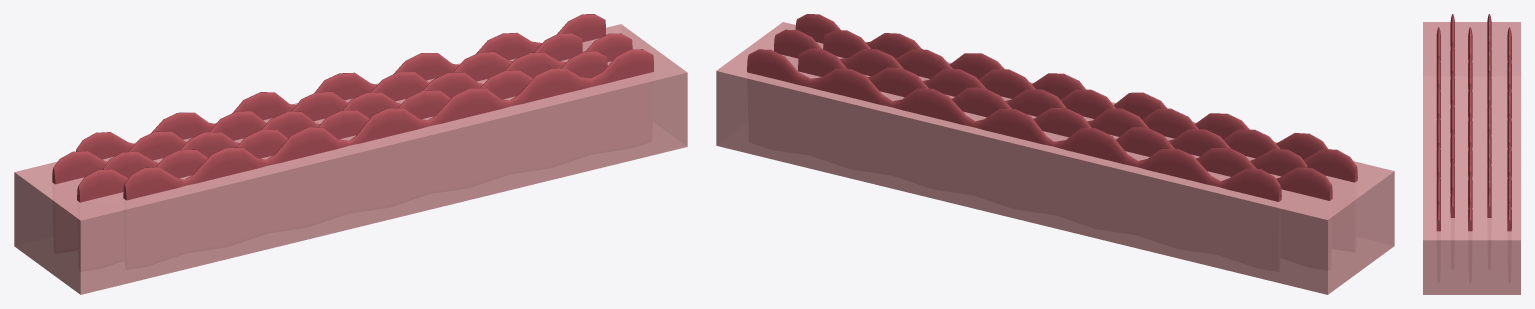
File: lave.fbx
3 views of the same model, side by side, from view 1: azimuth 30°, elevation 25°; view 2: azimuth 150°, elevation 25°; view 3: azimuth 270°, elevation 25° (orthographic). The views are drawn at different scales.
Visible parts, largest first — view 1: Lave, vague5, vague2, vague, vague4, vague3; view 2: Lave, vague, vague2, vague4, vague3, vague5; view 3: Lave, vague, vague3, vague2, vague4, vague5.
Boxes of the visible parts, box(x1,y1,x2,y2) form: Lave: box(14, 24, 687, 294); vague5: box(123, 49, 653, 200); vague2: box(52, 33, 582, 184); vague: box(76, 14, 605, 159); vague4: box(77, 51, 607, 202); vague3: box(103, 33, 632, 178); Lave: box(716, 22, 1394, 294); vague: box(747, 49, 1281, 201); vague2: box(798, 48, 1332, 200); vague4: box(823, 30, 1357, 182); vague3: box(774, 29, 1307, 176); vague5: box(795, 14, 1328, 159); Lave: box(1423, 22, 1520, 294); vague: box(1507, 27, 1511, 231); vague3: box(1468, 27, 1472, 231); vague2: box(1487, 14, 1491, 217); vague4: box(1450, 14, 1454, 217); vague5: box(1436, 27, 1440, 231).
Size of the model in its own units: 94.59 by 15.11 by 17.92.
